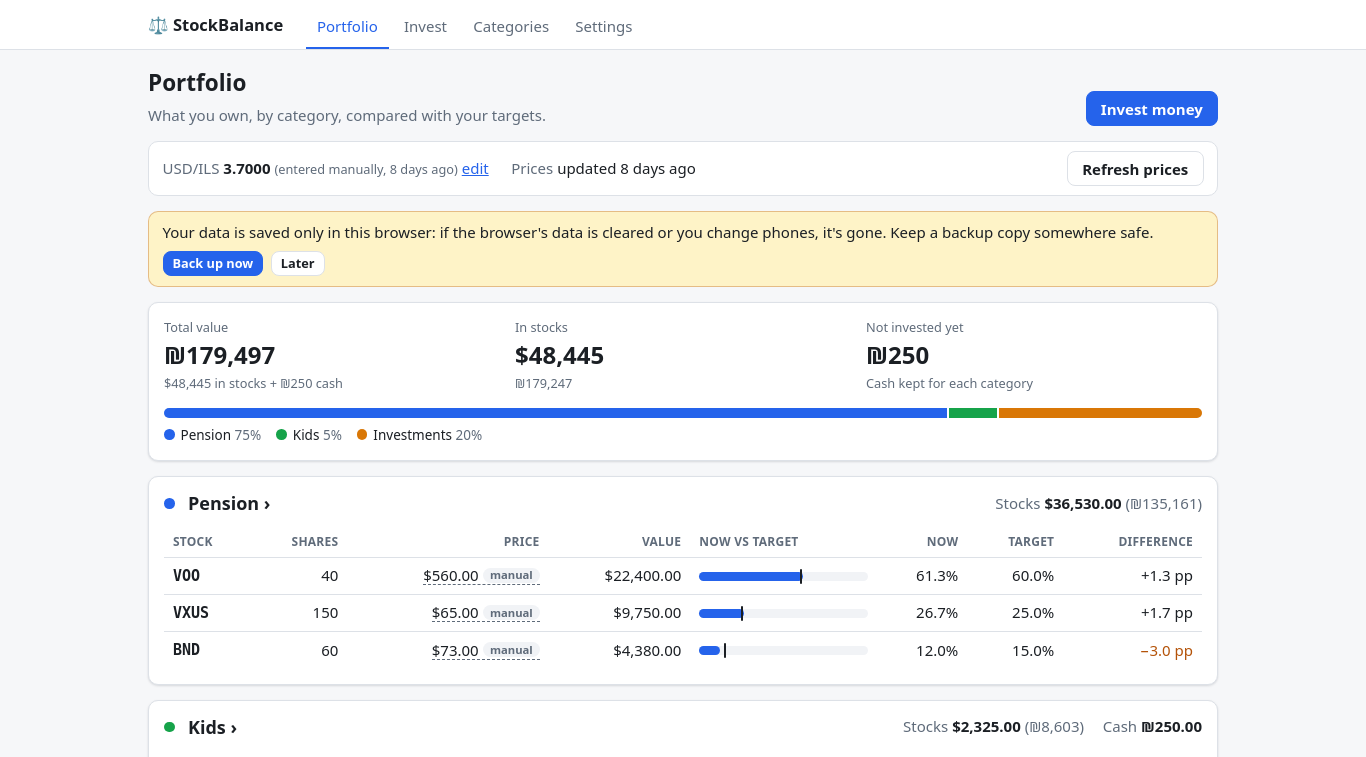
Test: PortfolioPage › lets the user type a price by hand
The image size is (1366, 757).
Click the button "$65.00 manual". click: (486, 613)
box: [432,603,540,622]
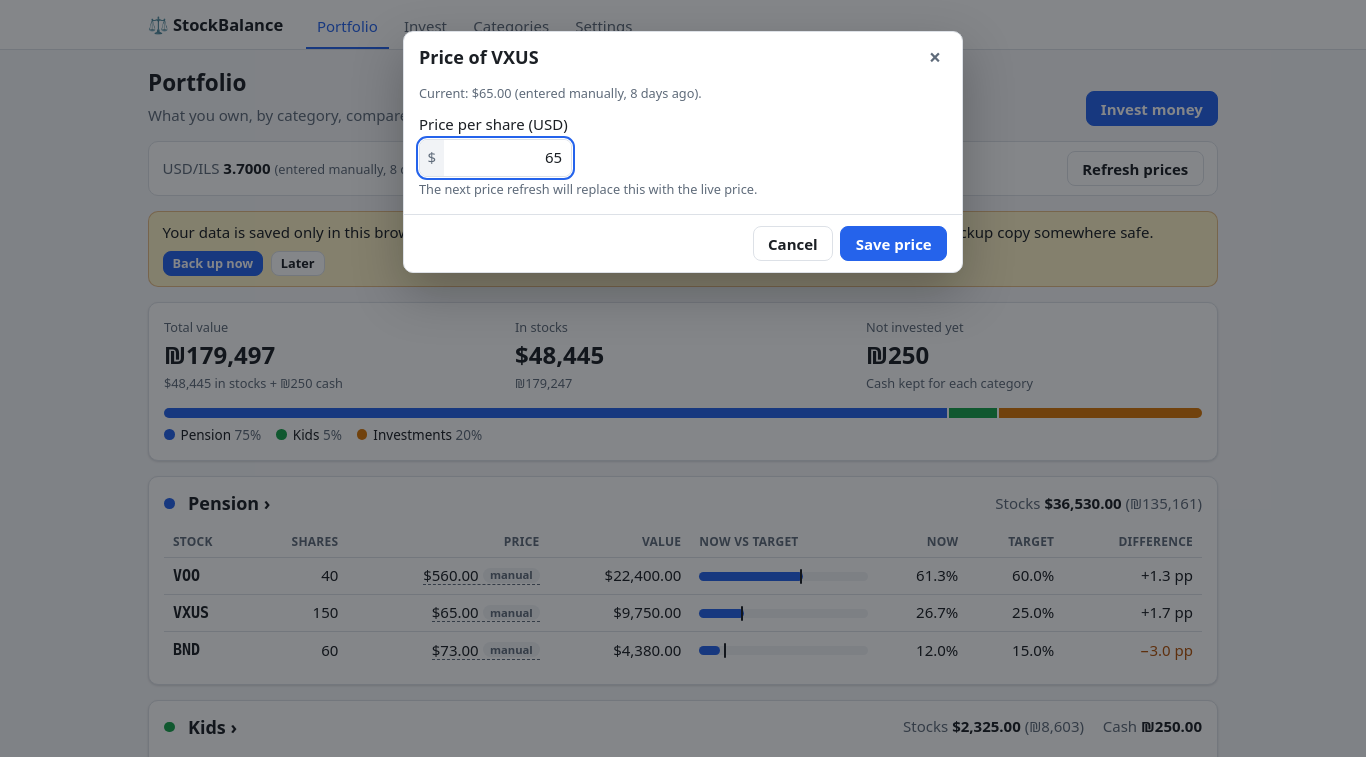
Replace the text in the field named "Price of VXUS in USD" with "70". click: (507, 158)
box: [444,140,571,176]
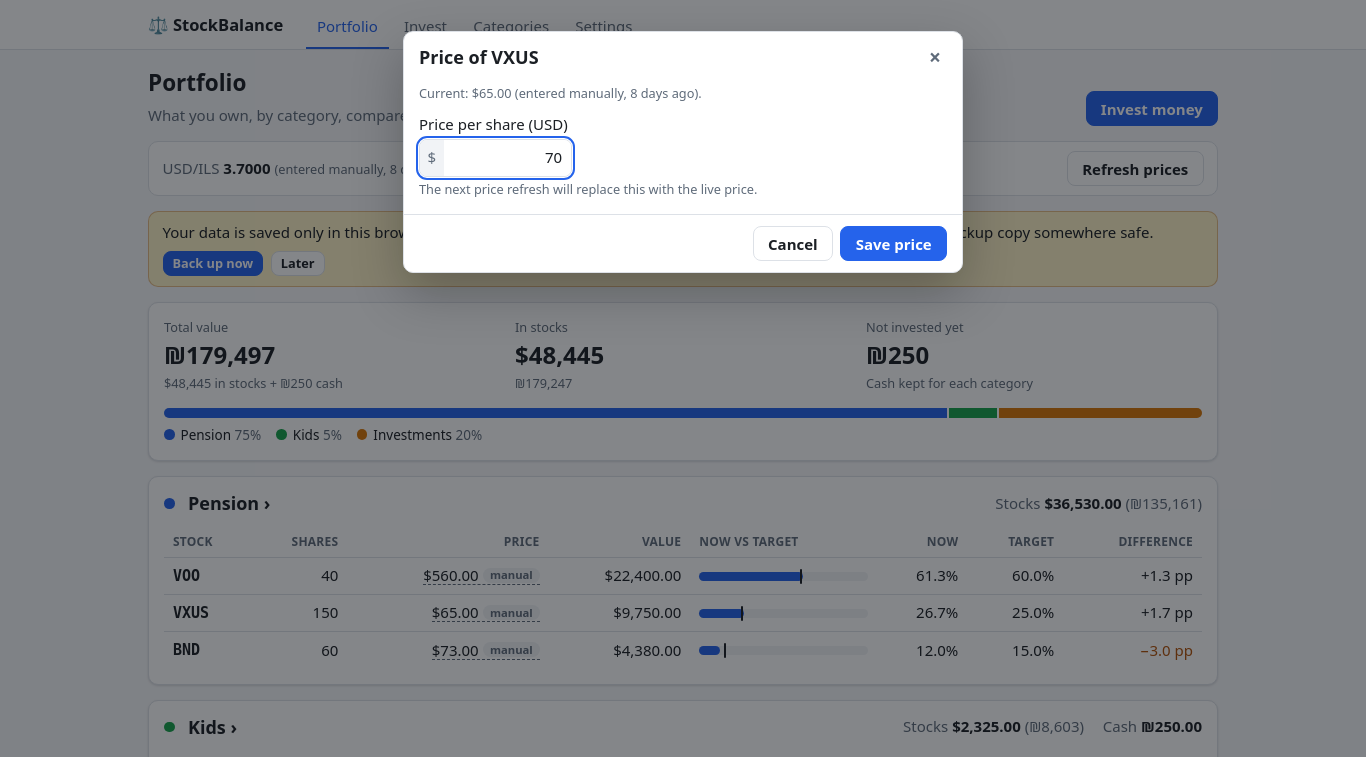
Click the button "Save price". click: (894, 244)
box: [840,226,947,261]
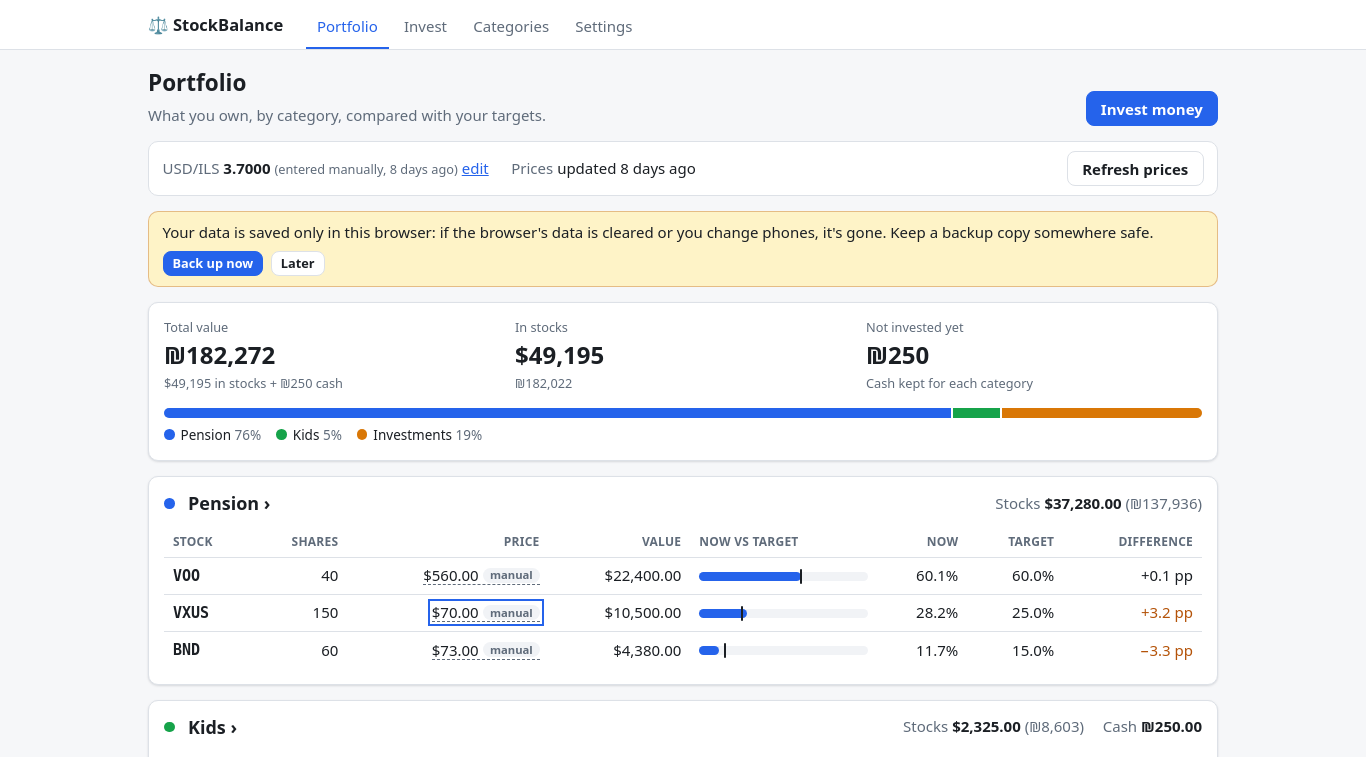
Check: the button "$70.00 manual" is shown, box [432,603,540,622]
